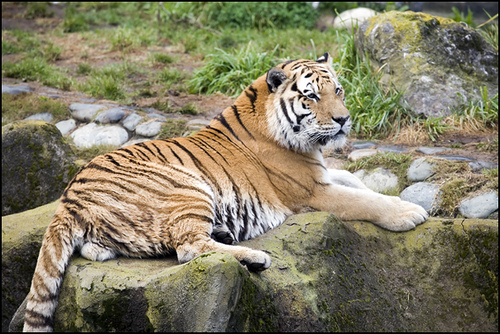Tigre: (47, 59, 425, 289)
